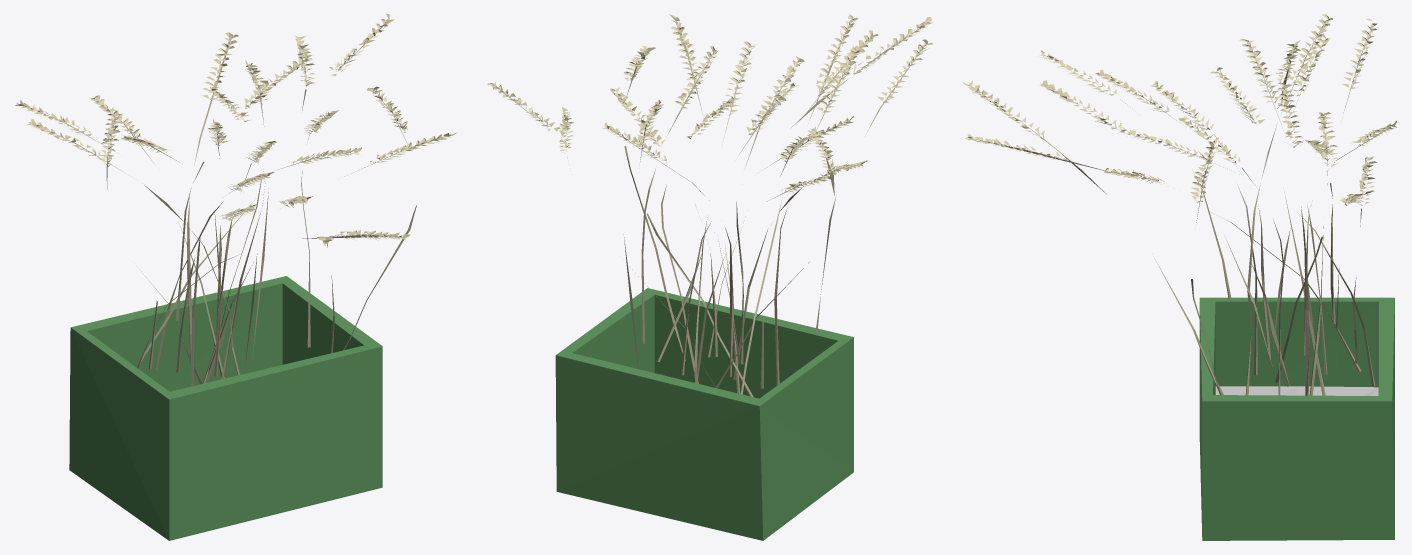
Rendered from sh-scopia-vase5.glb.
3 renders of one model, left to right at view 1: azimuth 30°, elevation 25°; view 2: azimuth 150°, elevation 25°; view 3: azimuth 270°, elevation 25°, orthographic. The views are drawn at different scales.
Parts seen in each view (by area): view 1: jarronCristal_Cube.1276, espigas_leaves.001_trunk, espigas_leaves.001_leaves, espigas_leaves.001_stems_1; view 2: jarronCristal_Cube.1276, espigas_leaves.001_trunk, espigas_leaves.001_leaves, espigas_leaves.001_stems_1; view 3: jarronCristal_Cube.1276, espigas_leaves.001_leaves, espigas_leaves.001_trunk, espigas_leaves.001_stems_1, piedras_jarron_Cube.1277.
Part boxes in pixels (x1,y1,x2,y2): jarronCristal_Cube.1276: [69, 276, 382, 540]; espigas_leaves.001_trunk: [31, 22, 445, 386]; espigas_leaves.001_leaves: [15, 14, 457, 244]; espigas_leaves.001_stems_1: [16, 26, 446, 245]; jarronCristal_Cube.1276: [555, 288, 853, 540]; espigas_leaves.001_trunk: [496, 21, 921, 397]; espigas_leaves.001_leaves: [487, 14, 932, 192]; espigas_leaves.001_stems_1: [499, 20, 929, 192]; jarronCristal_Cube.1276: [1199, 297, 1394, 540]; espigas_leaves.001_leaves: [962, 14, 1396, 205]; espigas_leaves.001_trunk: [980, 33, 1390, 395]; espigas_leaves.001_stems_1: [971, 19, 1373, 205]; piedras_jarron_Cube.1277: [1215, 386, 1378, 395].
Bounding box in the file's own units: 0.9967 × 0.9949 × 0.9898.
